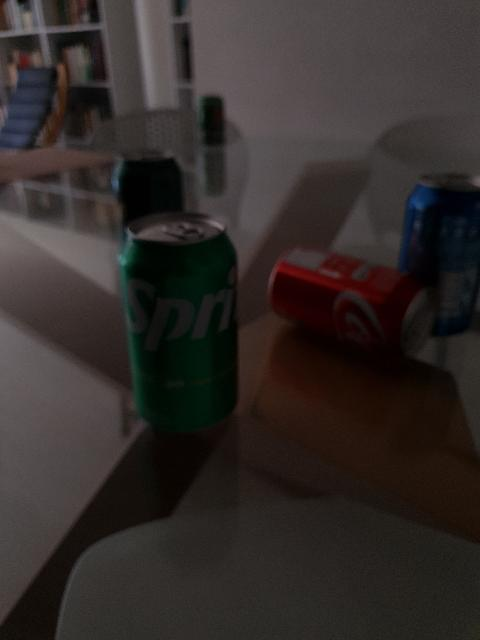coke: (266, 240, 448, 364)
pepsi: (406, 170, 480, 324)
schweppes: (114, 144, 183, 232)
sprite: (118, 213, 243, 429)
